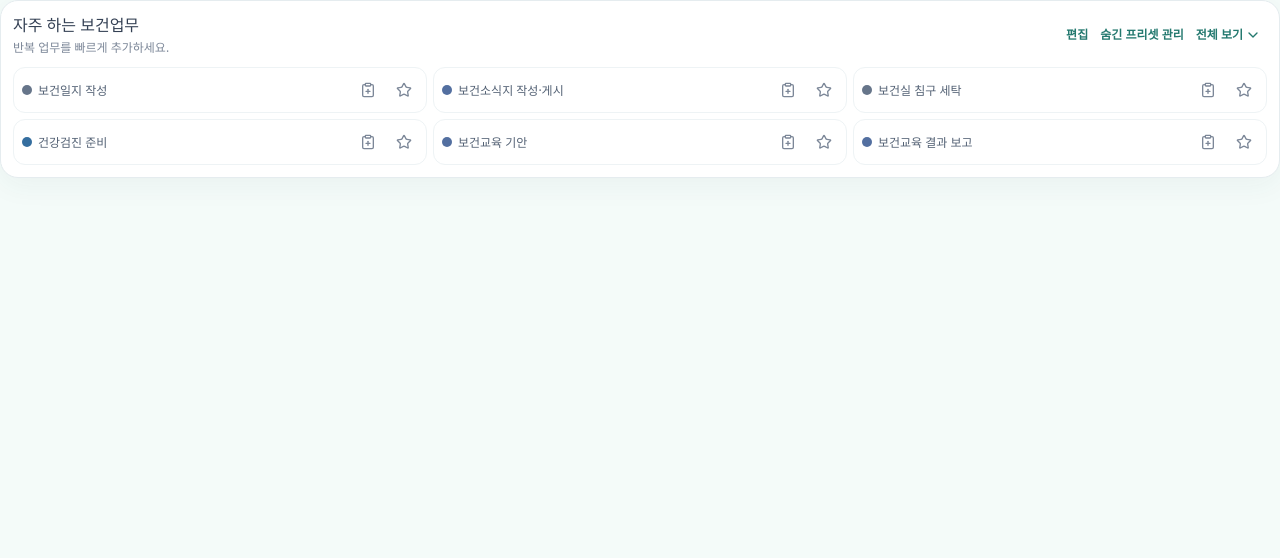
Test: HealthPresetQuickAdd › shows six presets before expanding to the full list
Expected: the heading "자주 하는 보건업무" is shown, [13,14,139,36]
Expected: the number of buttons named "프리셋 적용" is 6, [18,72,380,108]; [438,72,800,108]; [858,72,1220,108]; [18,124,380,160]; [438,124,800,160]; [858,124,1220,160]
Click the button "전체 보기": (1228, 35) [1190,13,1267,57]
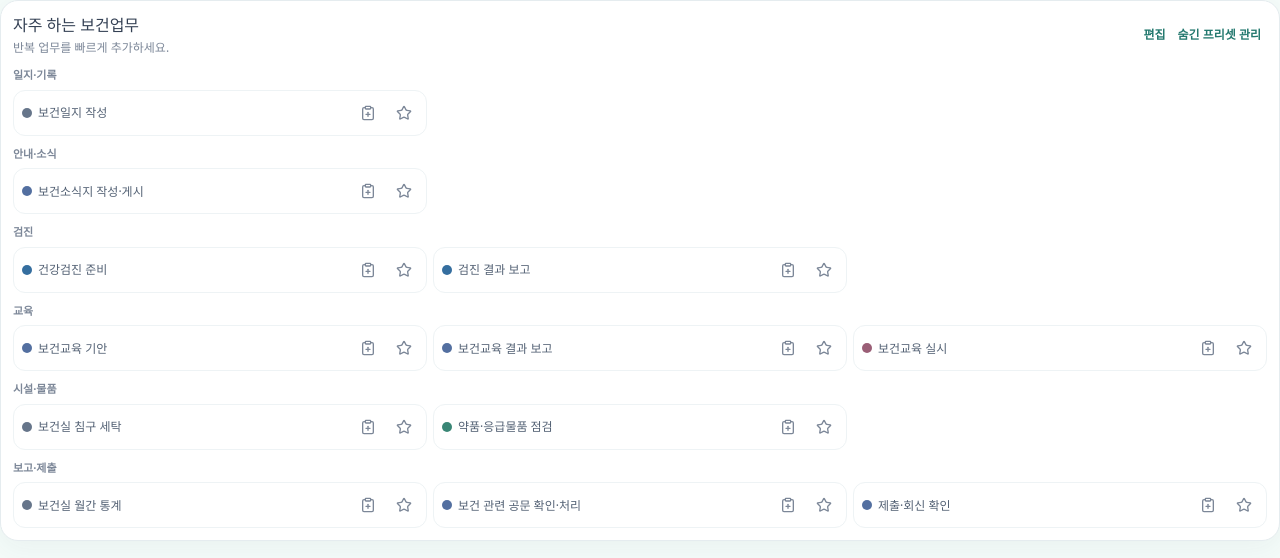
Result: the number of buttons named "프리셋 적용" is 12
Result: the heading "일지·기록" is shown at [13,67,57,82]
Result: the heading "보고·제출" is shown at [13,460,57,474]
